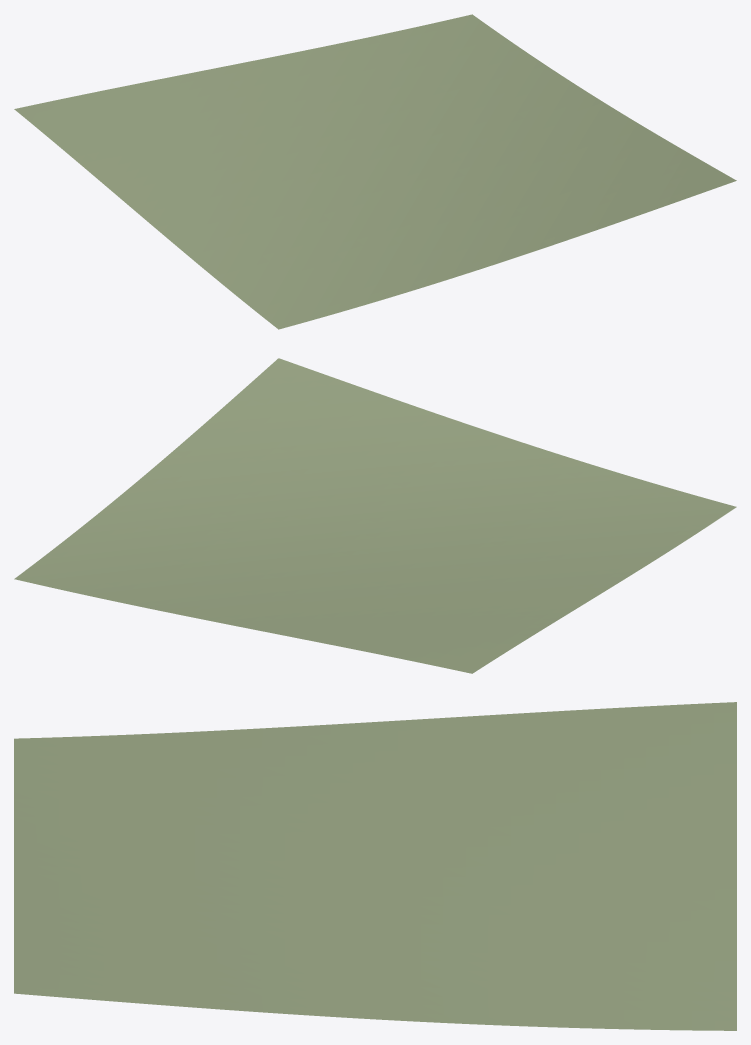
File: alpine-0-8.glb
3 renders of one model, top to bottom at view 1: azimuth 30°, elevation 25°; view 2: azimuth 150°, elevation 25°; view 3: azimuth 270°, elevation 25°, orthographic. The views are drawn at different scales.
Visible parts, largest first — view 1: alpine-0-8; view 2: alpine-0-8; view 3: alpine-0-8.
Boxes of the visible parts, x1=… form: alpine-0-8: x1=14, y1=14, x2=736, y2=329; alpine-0-8: x1=14, y1=358, x2=736, y2=673; alpine-0-8: x1=14, y1=702, x2=736, y2=1030.
Size of the model in its own units: 256 by 19.74 by 256.
